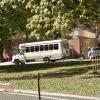Bus: (17, 39, 75, 65)
